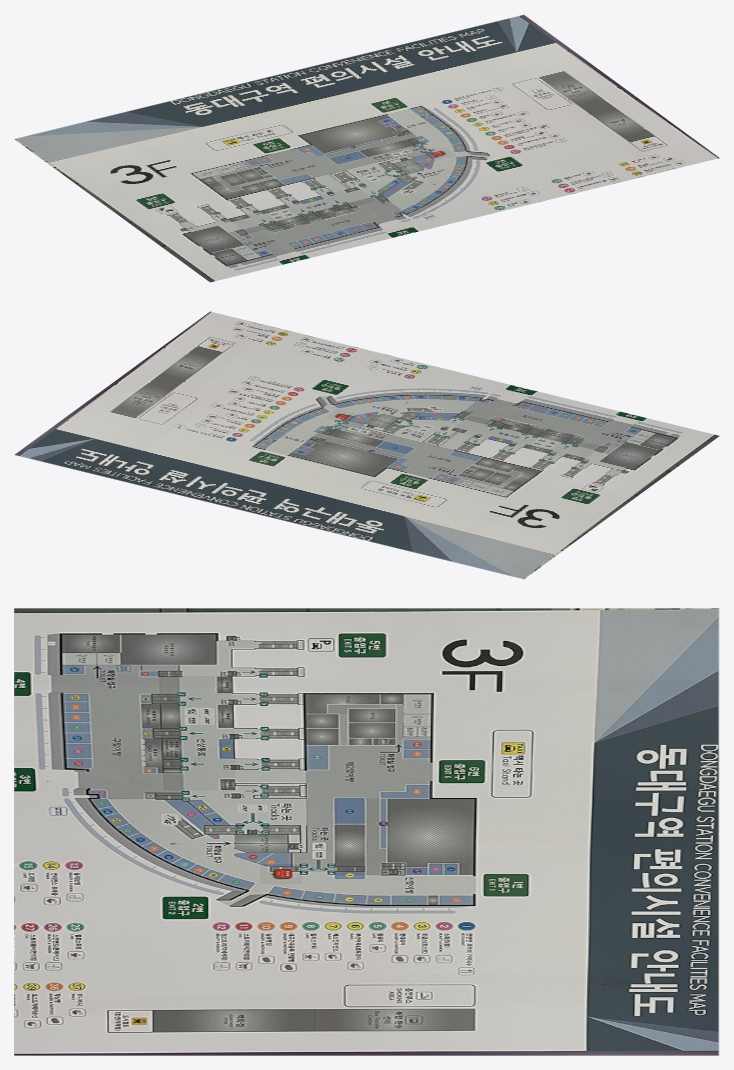
Rendered from Map.fbx.
The picture shows the model from 3 angles, top to bottom: view 1: azimuth 30°, elevation 25°; view 2: azimuth 150°, elevation 25°; view 3: azimuth 270°, elevation 25°; orthographic projection. The views are drawn at different scales.
Parts seen in each view (by area): view 1: 동대구역 안내도면; view 2: 동대구역 안내도면; view 3: 동대구역 안내도면.
Boxes of the visible parts, <box> form: 동대구역 안내도면: <box>14,14,719,282</box>; 동대구역 안내도면: <box>14,311,719,579</box>; 동대구역 안내도면: <box>14,608,719,1055</box>.
Bounding box in the file's own units: 217 × 1.73e-05 × 145.
Materials: 1 (1 with a texture image).
